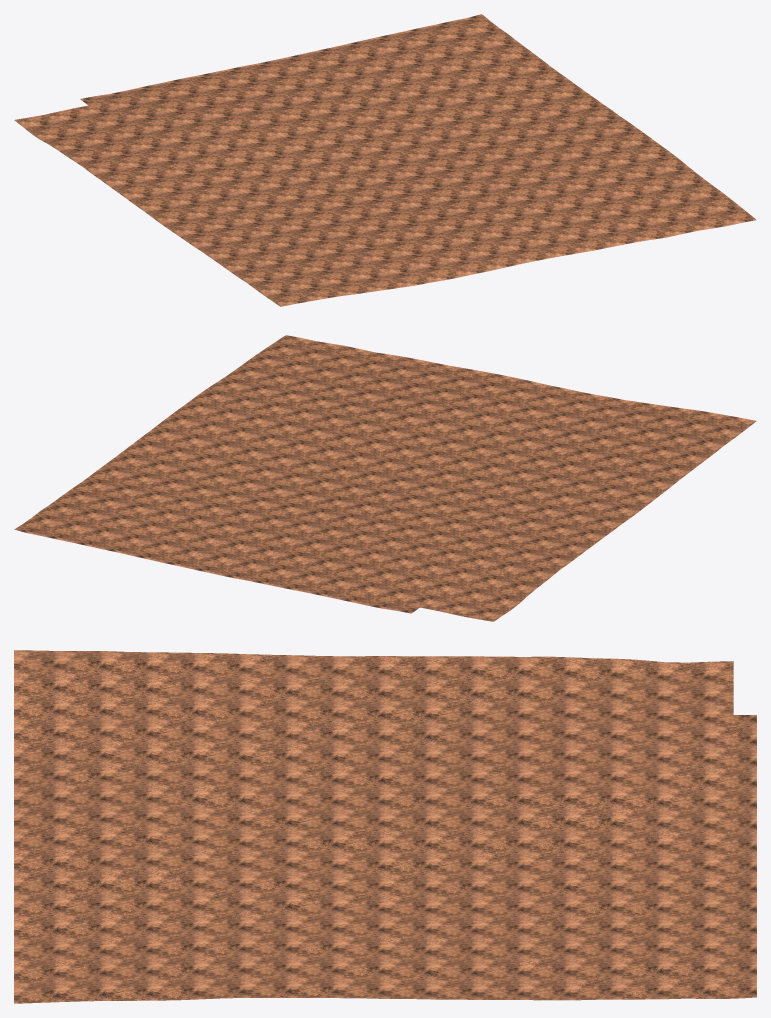
The model's file is terrain_11_14.dae.
3 views of the same model, one above another, from view 1: azimuth 30°, elevation 25°; view 2: azimuth 150°, elevation 25°; view 3: azimuth 270°, elevation 25° (orthographic). The views are drawn at different scales.
Visible parts, largest first — view 1: terrain_11_14-node; view 2: terrain_11_14-node; view 3: terrain_11_14-node.
Part boxes in pixels (box(x1,y1,x2,y2)): terrain_11_14-node: box(14, 14, 756, 306); terrain_11_14-node: box(14, 335, 756, 621); terrain_11_14-node: box(14, 650, 756, 1003).
Bounding box in the file's own units: 128 × 128 × 7.55.
Materials: 1 (1 with a texture image).
